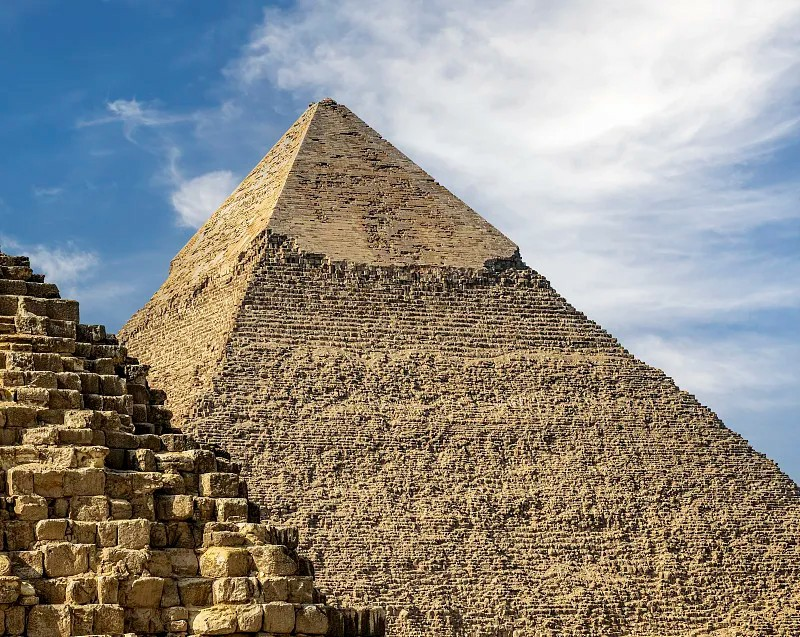Pyramid: (114, 100, 800, 637)
